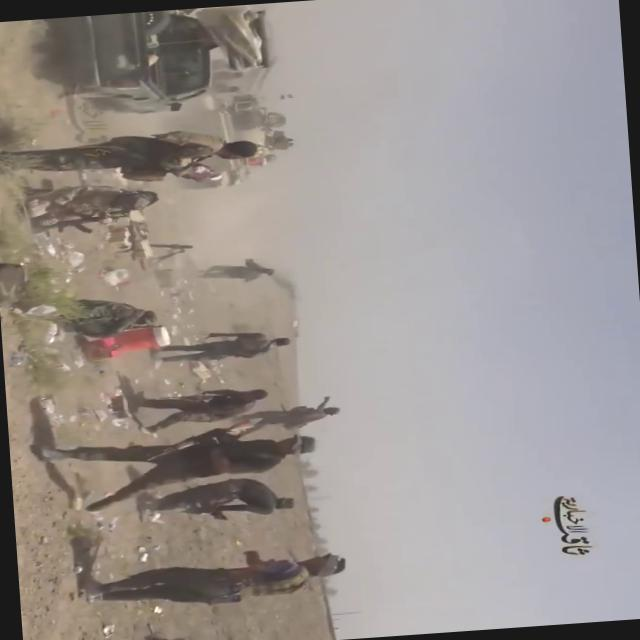long weapon: (139, 414, 258, 467), (26, 208, 130, 242), (152, 388, 237, 410)
